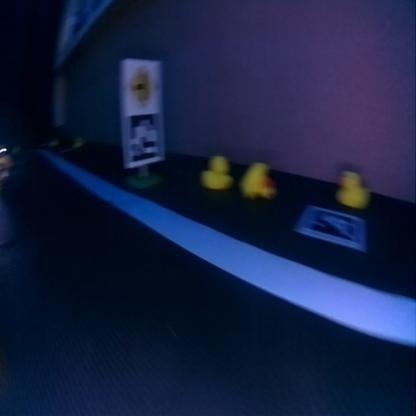Duckie: (241, 163, 274, 197), (336, 171, 368, 205), (203, 155, 232, 187)
Intersection sign: (126, 63, 159, 110)
QR code: (296, 206, 366, 250), (126, 112, 162, 163)
